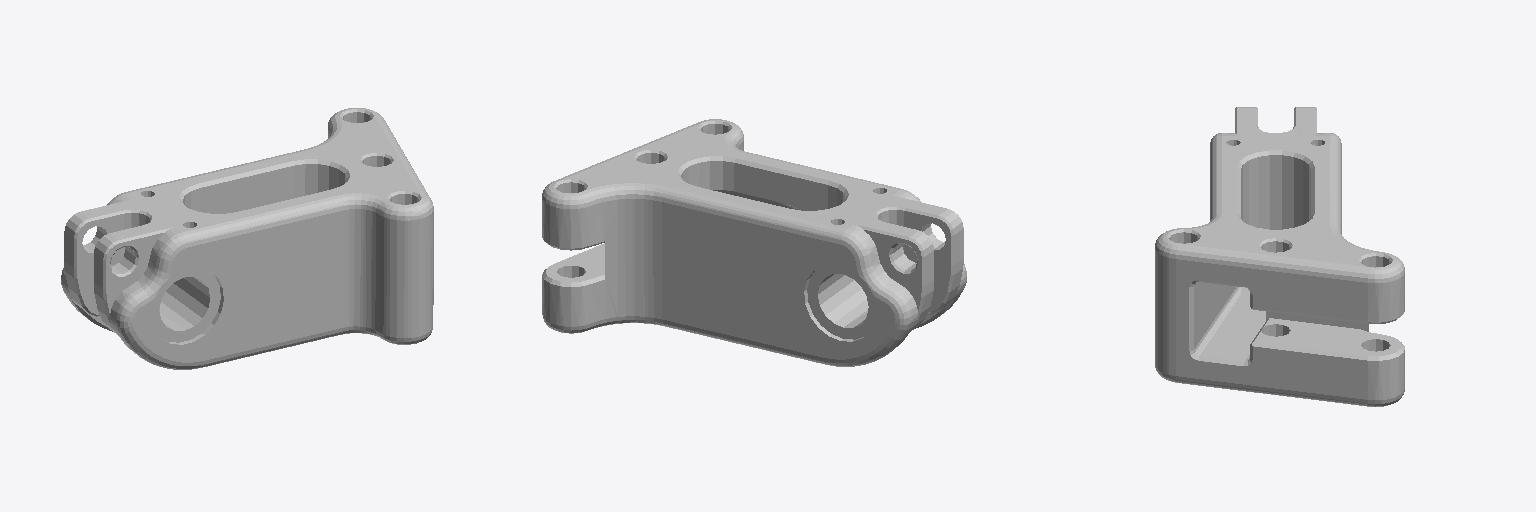
File: L_thumb_proximal_yaw_link.obj
3 views of the same model, side by side, from view 1: azimuth 30°, elevation 25°; view 2: azimuth 150°, elevation 25°; view 3: azimuth 270°, elevation 25° (orthographic).
Parts seen in each view (by area): view 1: R_thumb_proximal_yaw_link; view 2: R_thumb_proximal_yaw_link; view 3: R_thumb_proximal_yaw_link.
Boxes of the visible parts, box(x1,y1,x2,y2) form: R_thumb_proximal_yaw_link: box(61, 108, 433, 369); R_thumb_proximal_yaw_link: box(542, 119, 966, 366); R_thumb_proximal_yaw_link: box(1155, 107, 1404, 406).
Size of the model in its own units: 0.0342 by 0.0132 by 0.0213.